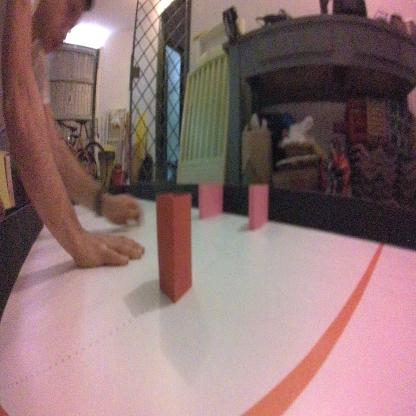magenta: (196, 180, 224, 219), (248, 183, 269, 234)
red: (154, 185, 196, 301)
